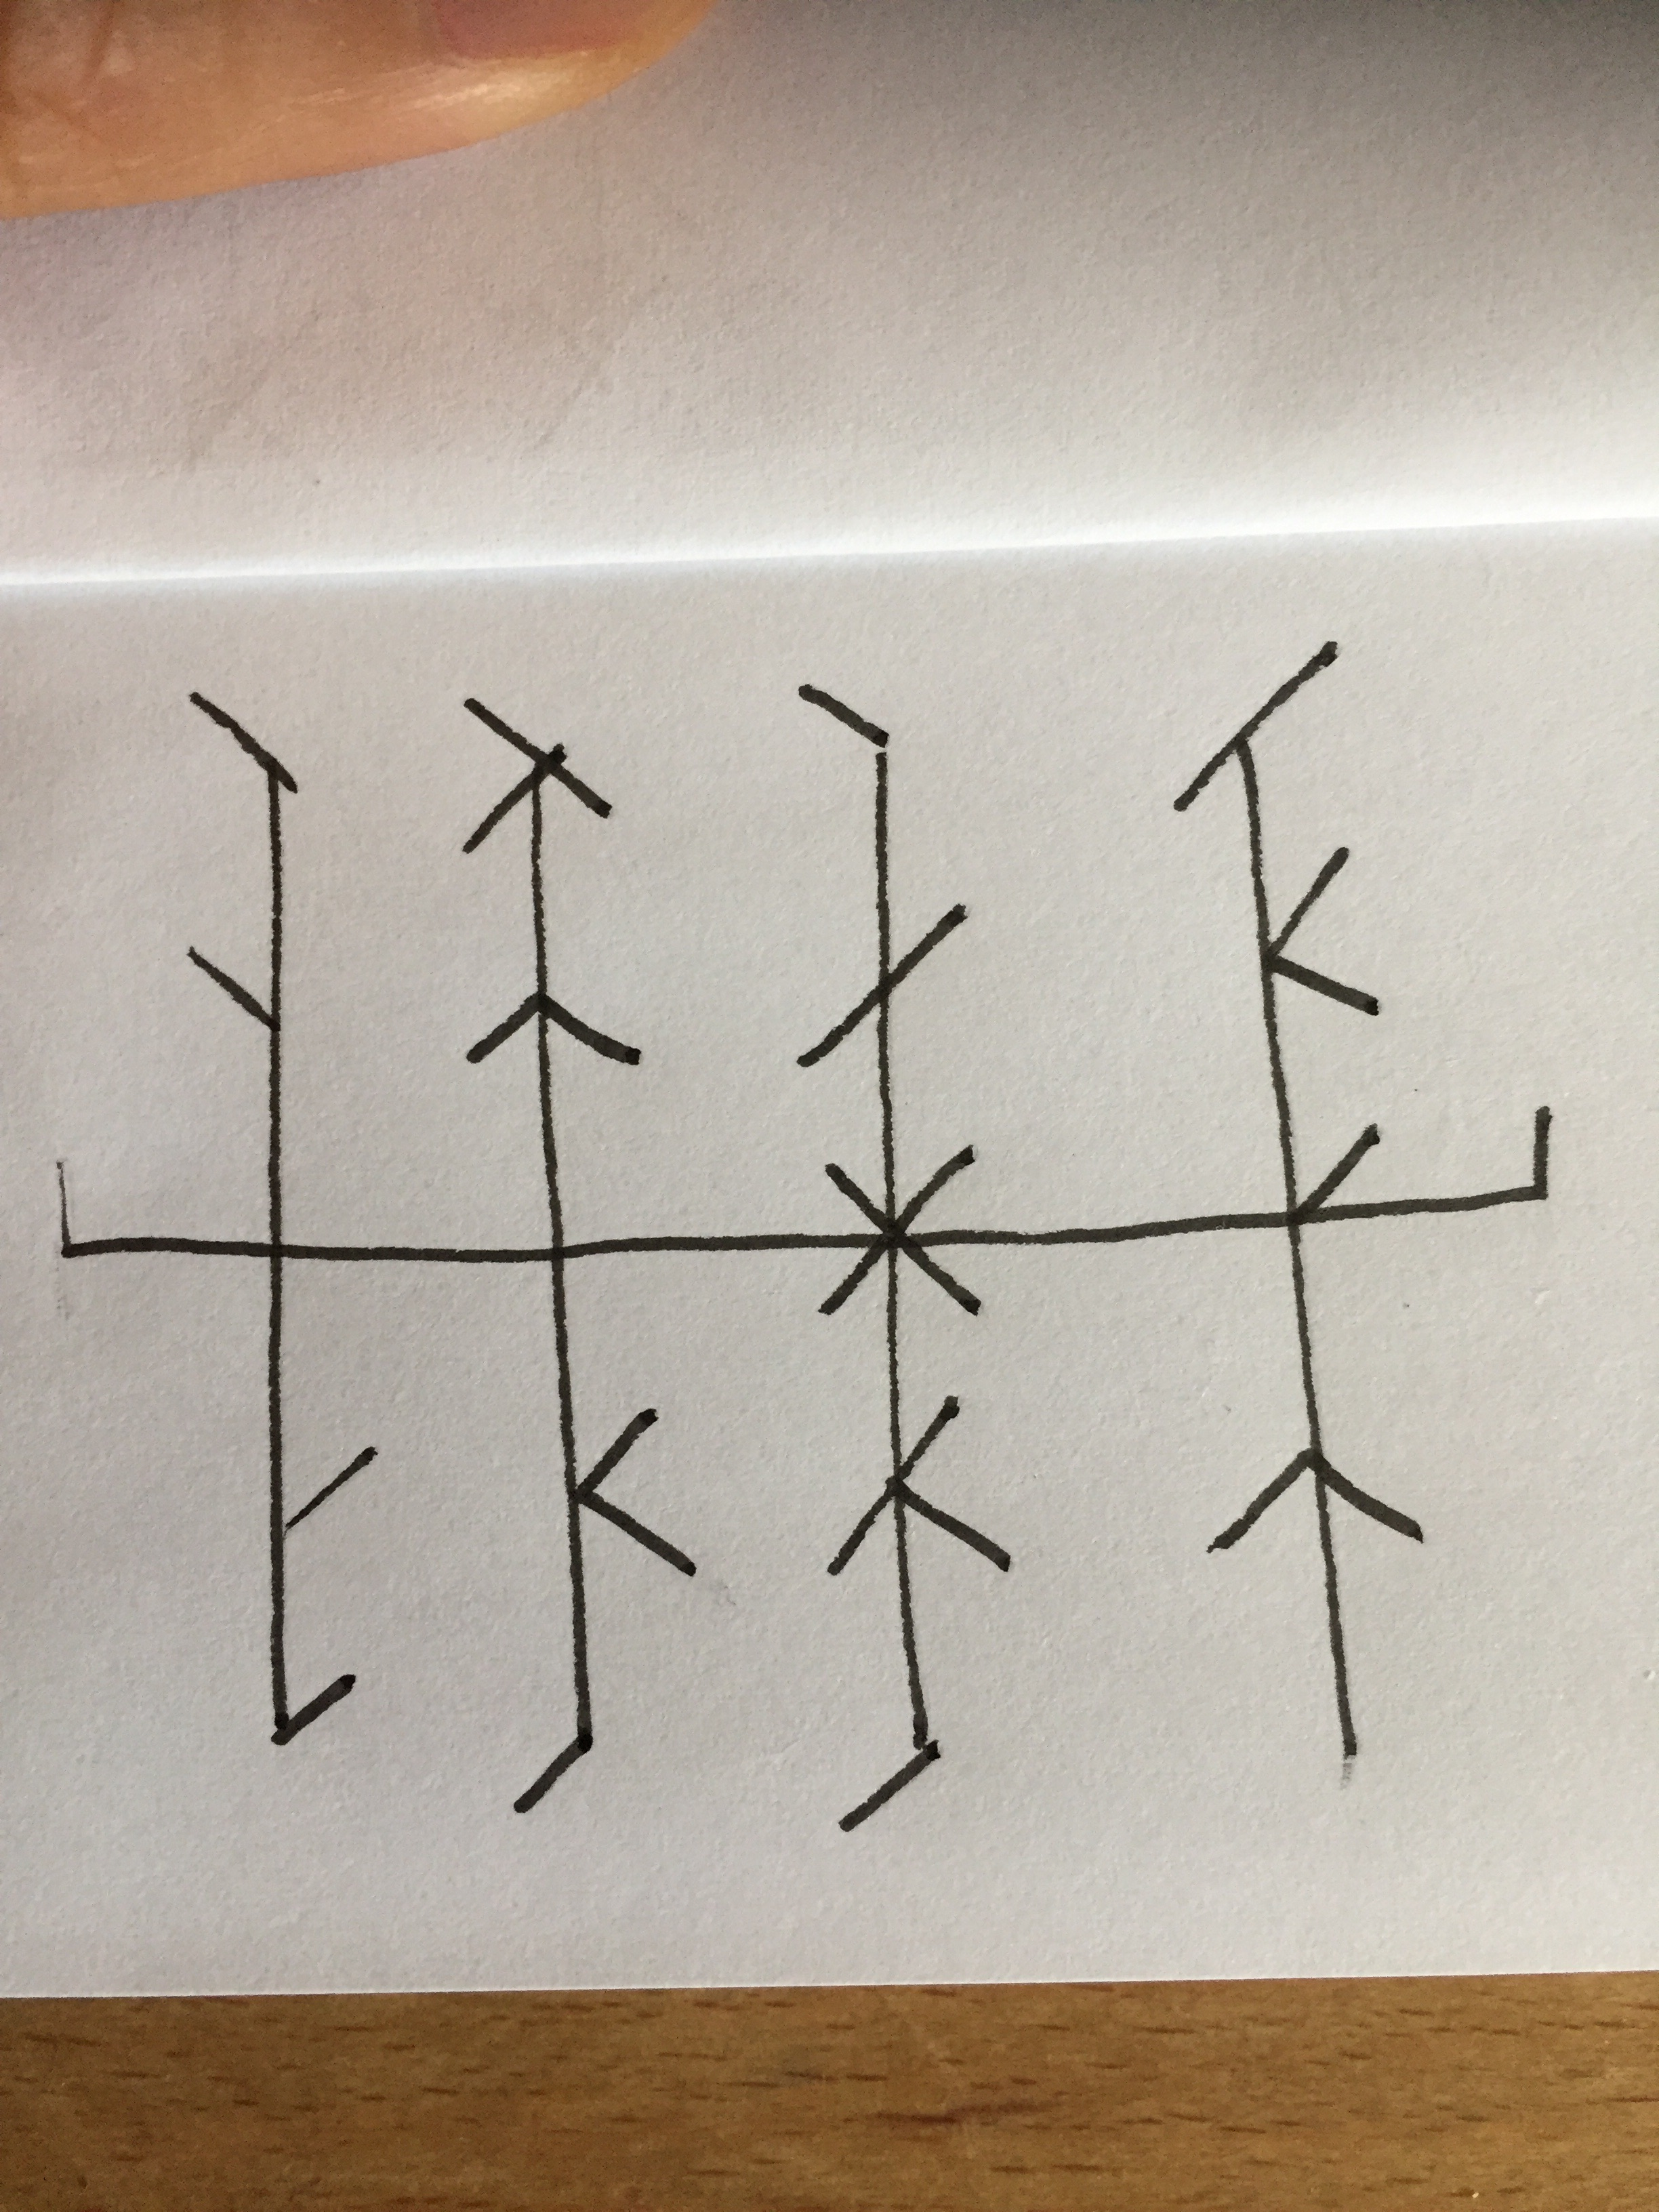Bar: (1169, 641, 1422, 1759), (458, 697, 701, 1813), (791, 685, 1011, 1831), (186, 691, 380, 1747)
Barcode: (58, 641, 1554, 1831)
End: (1382, 1106, 1554, 1221)
Start: (56, 1160, 265, 1259)
